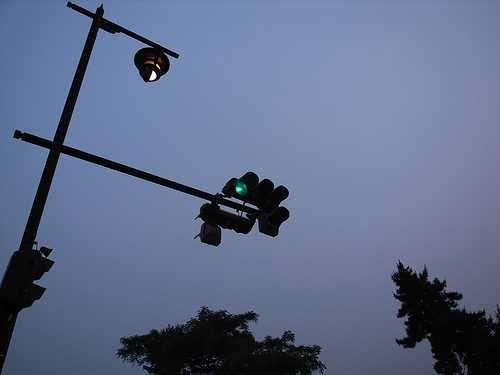green: (225, 174, 285, 208)
